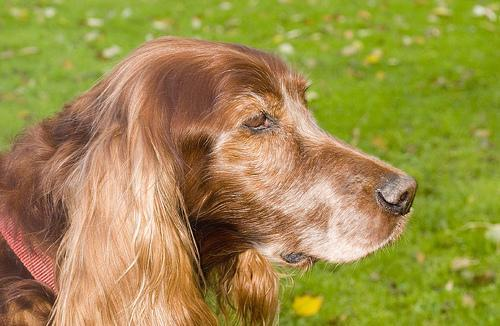Irish_setter: (0, 38, 422, 325)
